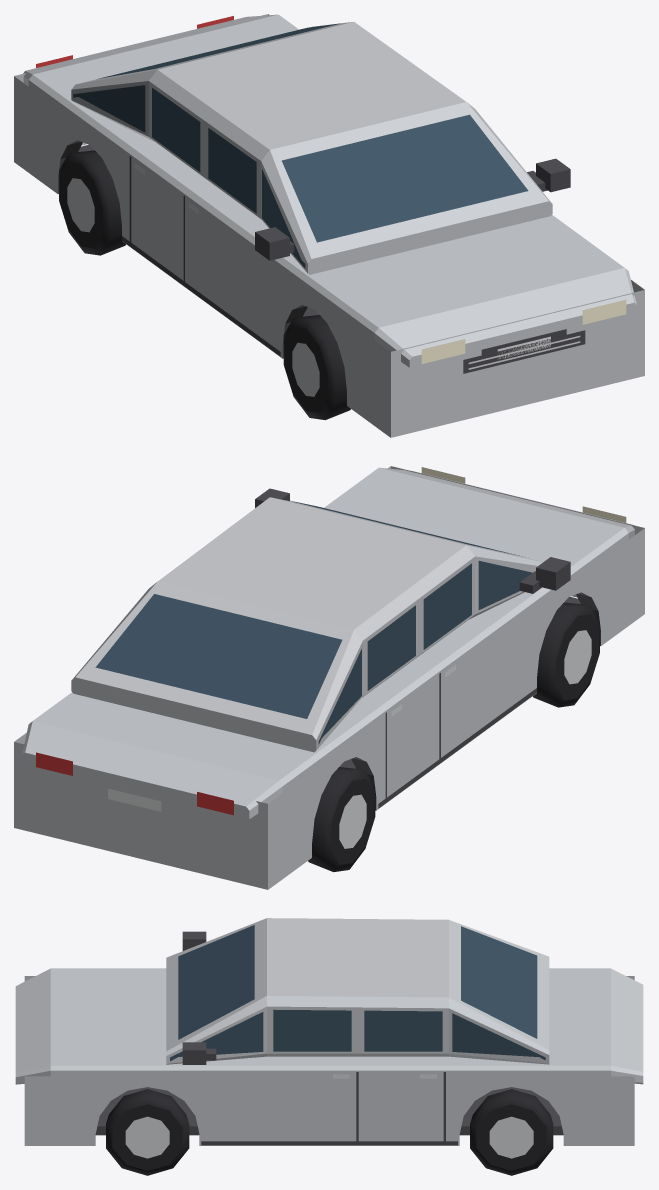
3 renders of one model, top to bottom at view 1: azimuth 30°, elevation 25°; view 2: azimuth 150°, elevation 25°; view 3: azimuth 270°, elevation 25°, orthographic. The views are drawn at different scales.
Parts seen in each view (by area): view 1: 359; view 2: 359; view 3: 359.
Boxes of the visible parts, x1,y1,x2,y2 form: 359: (14,14,644,437); 359: (14,466,644,889); 359: (15,918,643,1175).
Size of the model in its own units: 2.25 by 1.47 by 5.05.
